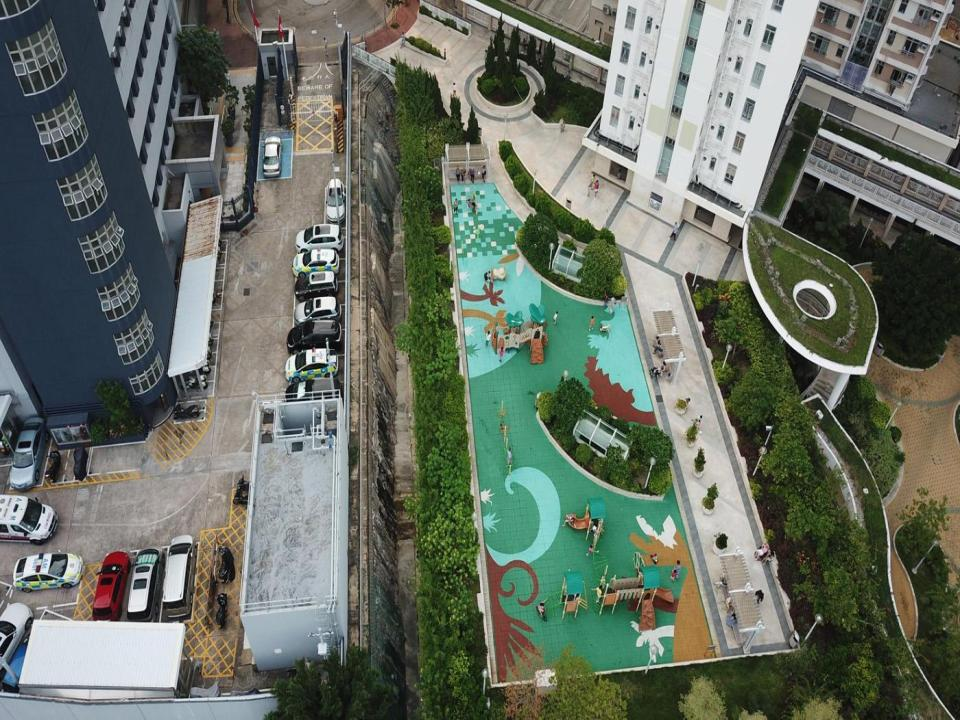car: (2, 622, 49, 696), (13, 549, 82, 593), (10, 415, 48, 490), (91, 551, 130, 624), (0, 602, 34, 684), (285, 346, 338, 383), (294, 295, 342, 326), (292, 247, 340, 277), (292, 270, 336, 301), (262, 136, 282, 176)
van: (126, 546, 165, 625), (0, 494, 58, 544), (163, 534, 196, 618), (284, 376, 343, 415), (286, 319, 342, 355), (295, 223, 343, 253), (326, 178, 345, 224)
